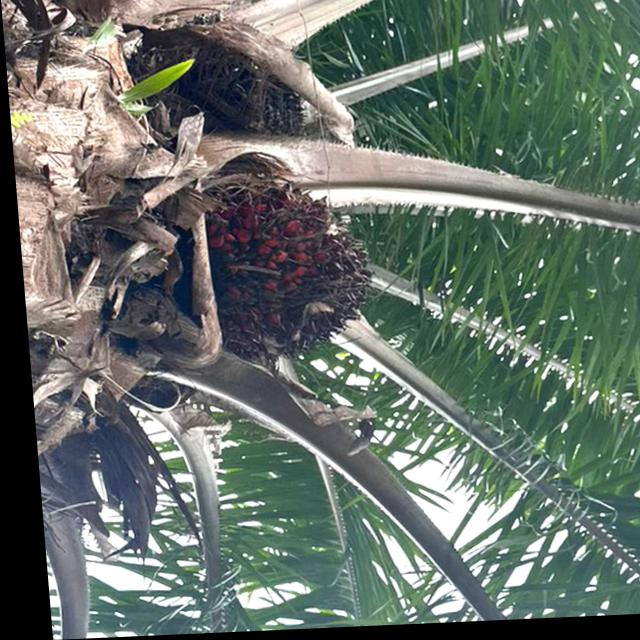ripe: (182, 182, 376, 372)
